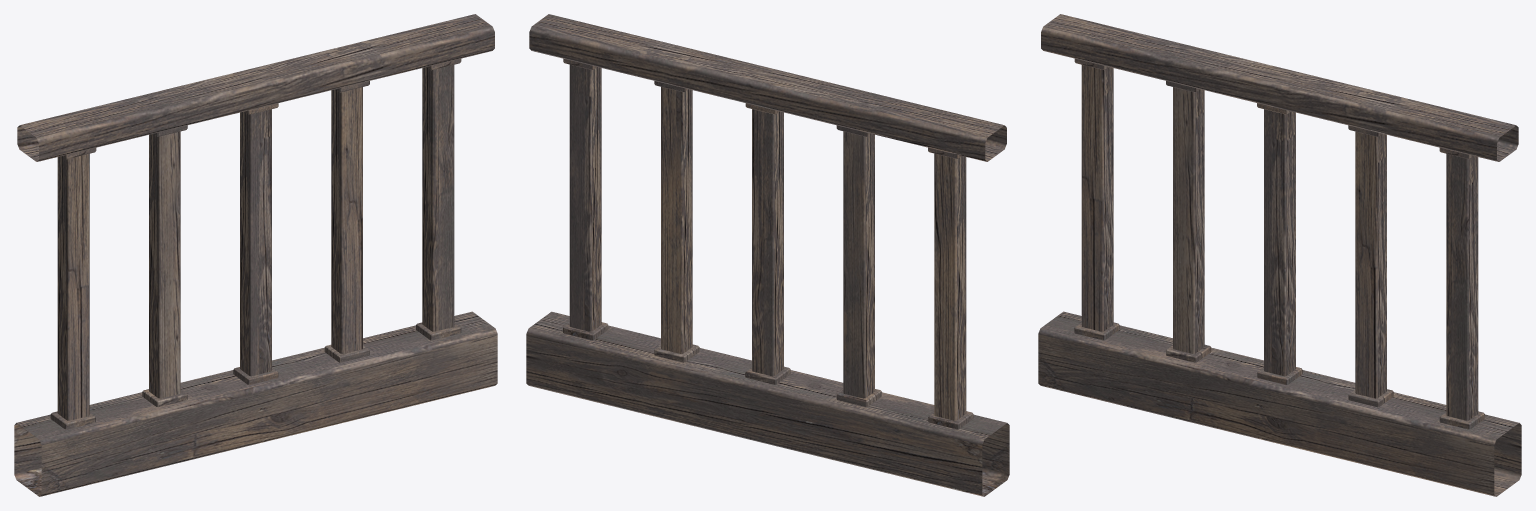
The model's file is IntWoodFence02b.FBX.
3 renders of one model, left to right at view 1: azimuth 30°, elevation 25°; view 2: azimuth 150°, elevation 25°; view 3: azimuth 330°, elevation 25°, orthographic.
Visible parts, largest first — view 1: Object024; view 2: Object024; view 3: Object024.
Boxes of the visible parts, <box> form: Object024: <box>14,14,497,496</box>; Object024: <box>526,14,1009,496</box>; Object024: <box>1038,14,1521,496</box>.
Size of the model in its own units: 49.21 by 36.81 by 5.14.
